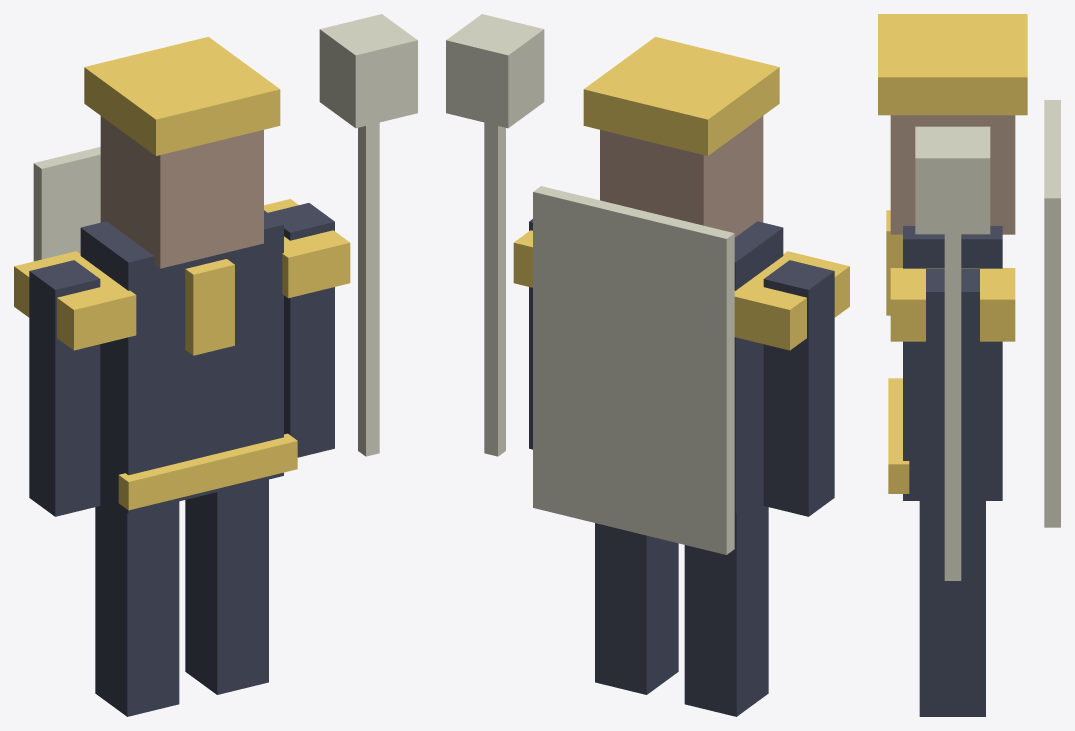
Rendered from 12_draven_latchward_captain_near_geometry.glb.
3 renders of one model, left to right at view 1: azimuth 30°, elevation 25°; view 2: azimuth 150°, elevation 25°; view 3: azimuth 270°, elevation 25°, orthographic. The views are drawn at different scales.
Visible parts, largest first — view 1: Draven Latchward, Captain near Geometry; view 2: Draven Latchward, Captain near Geometry; view 3: Draven Latchward, Captain near Geometry.
Boxes of the visible parts, left/top/right/bottom form: Draven Latchward, Captain near Geometry: left=14, top=14, right=417, bottom=716; Draven Latchward, Captain near Geometry: left=446, top=14, right=849, bottom=716; Draven Latchward, Captain near Geometry: left=878, top=14, right=1060, bottom=716.
Bounding box in the file's own units: 0.9655 × 1.57 × 0.4105.
